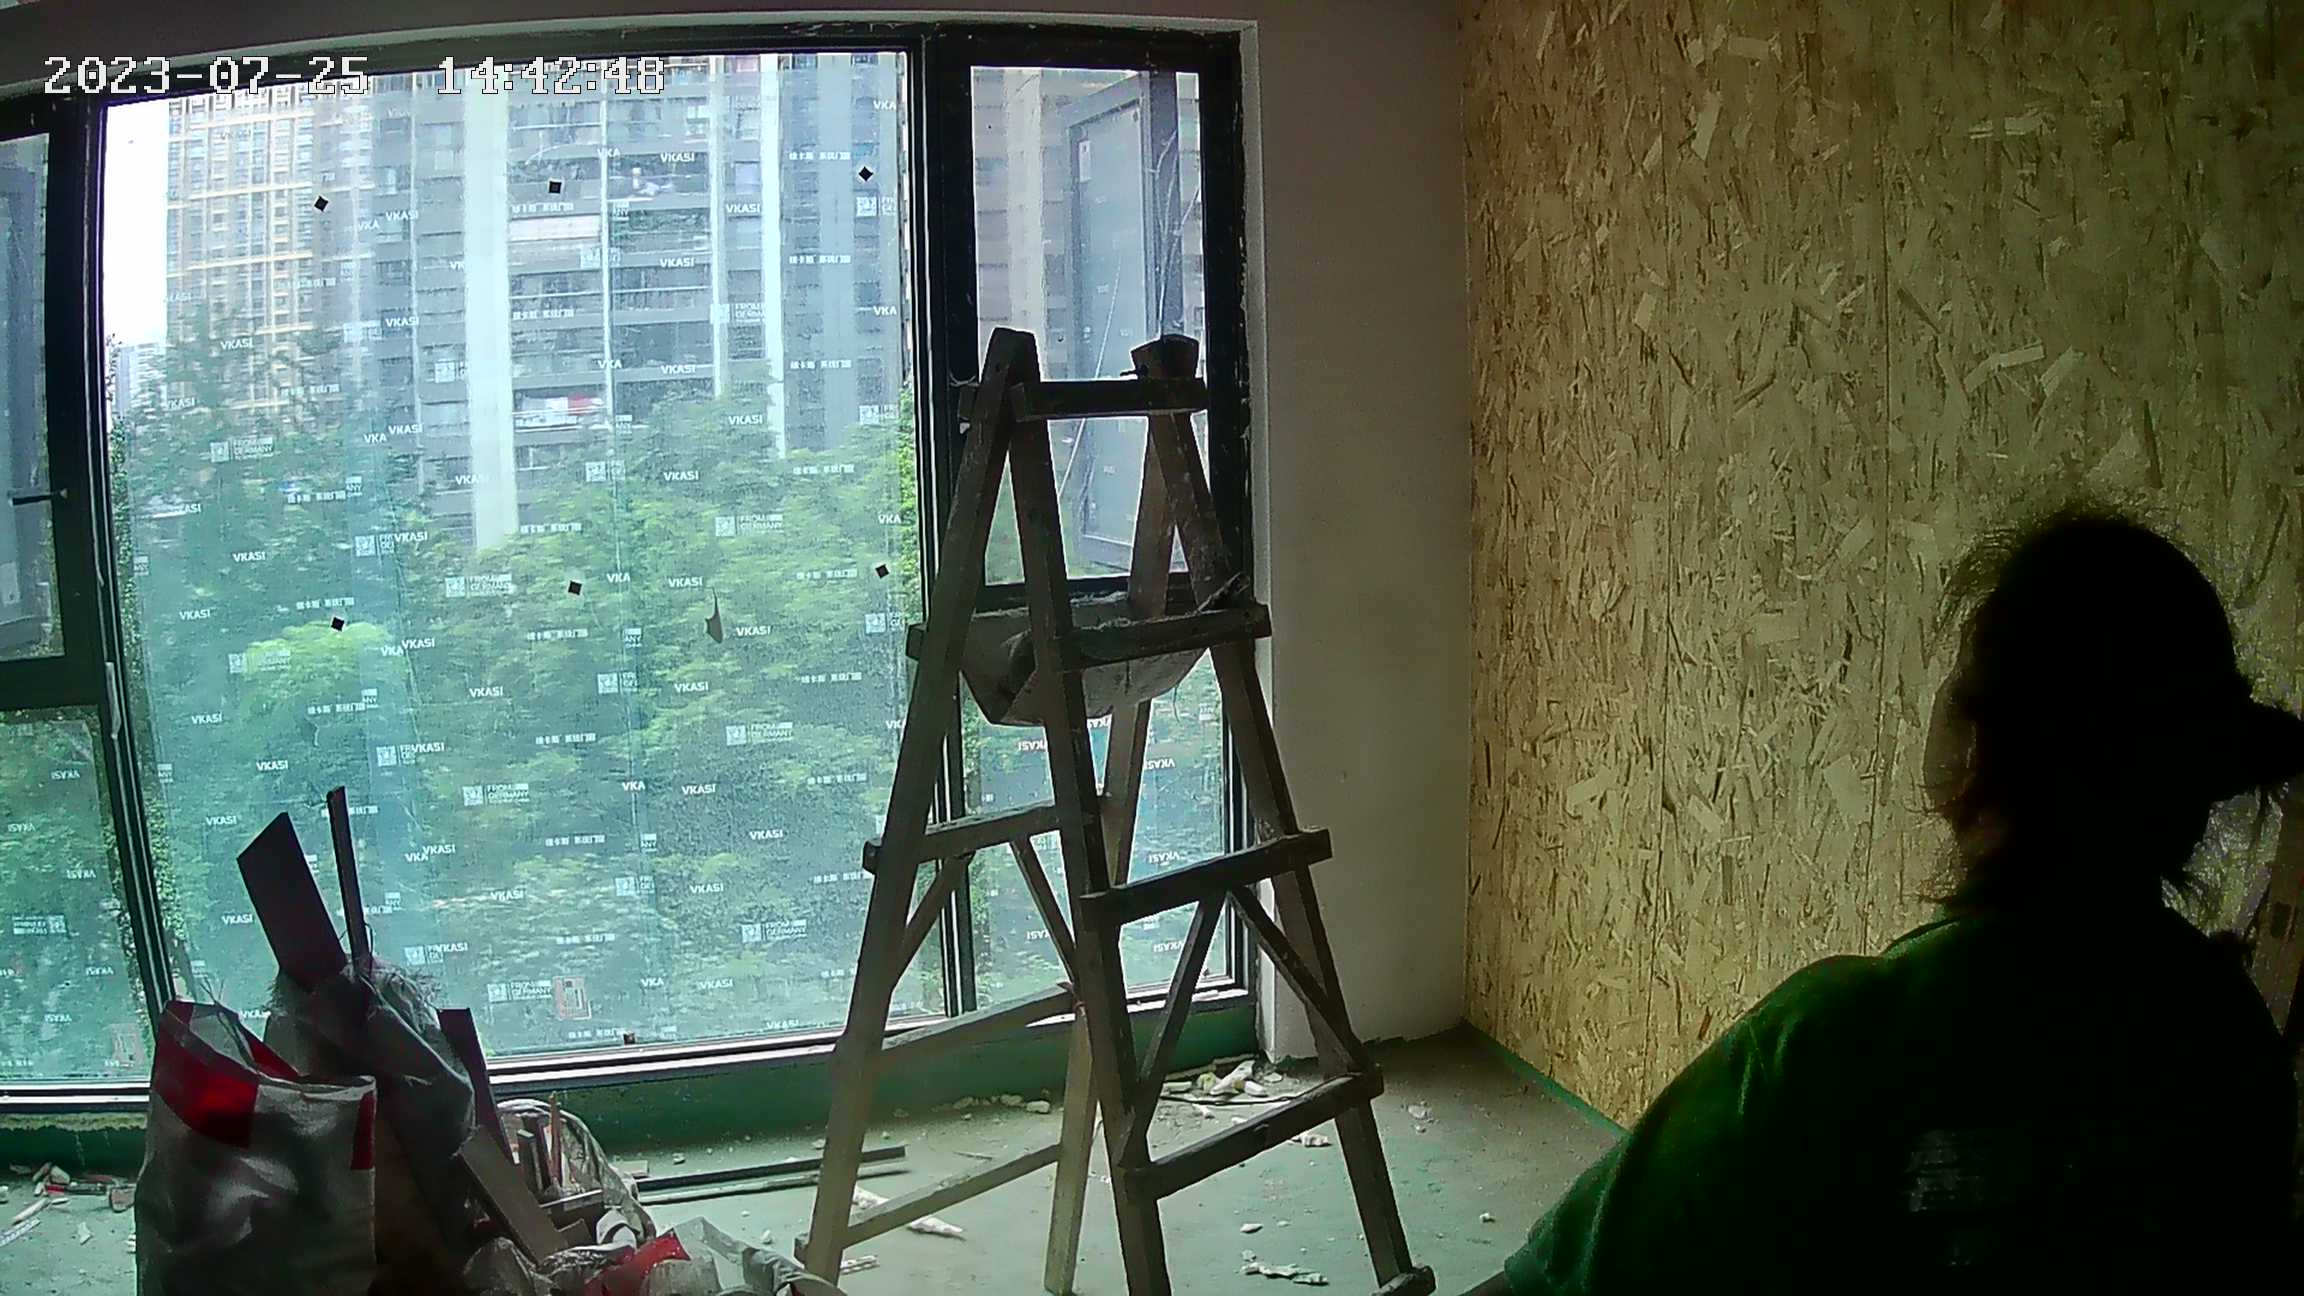people: (1476, 529, 2304, 1291)
window: (1, 78, 1248, 1048)
